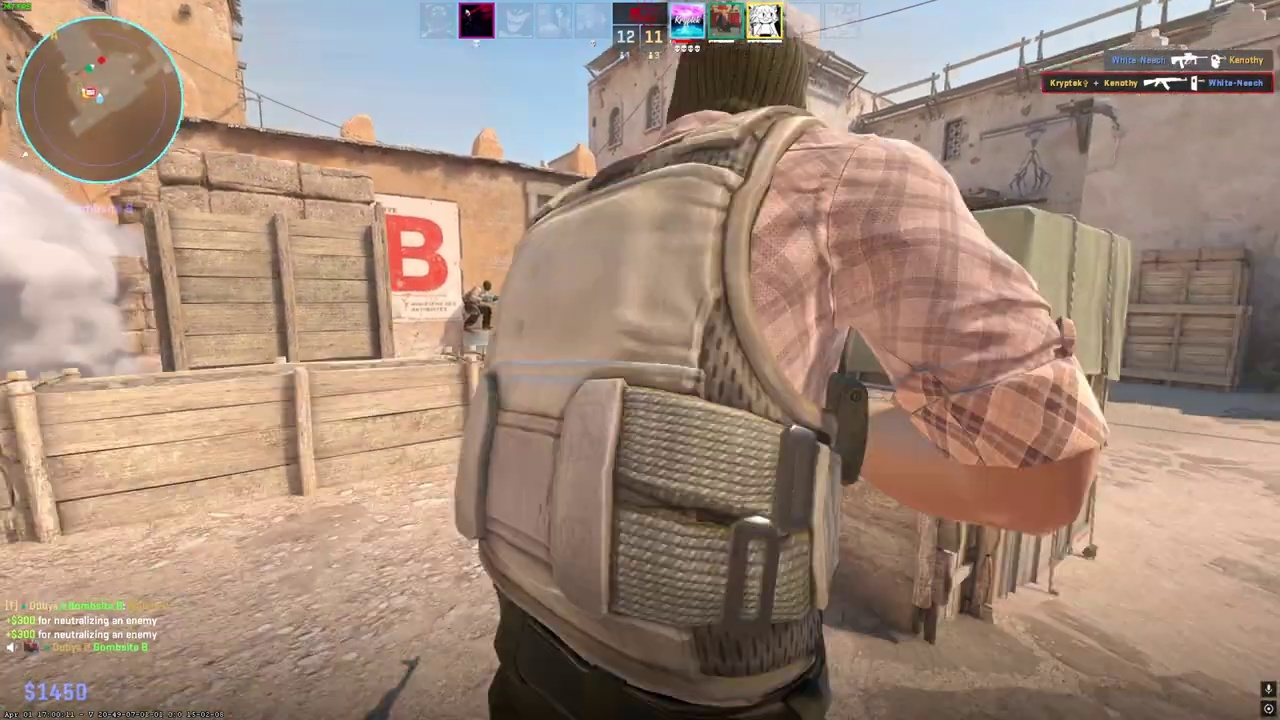Terrorist: (497, 16, 974, 720), (464, 280, 497, 333)
